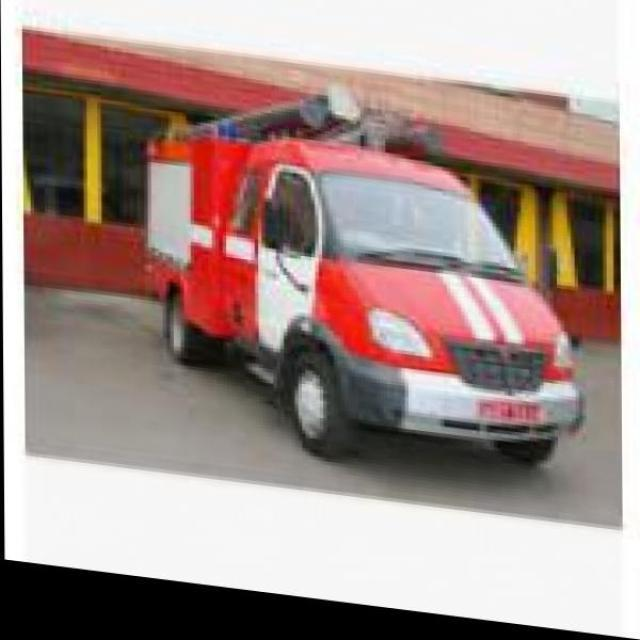emergency: (138, 86, 586, 467)
